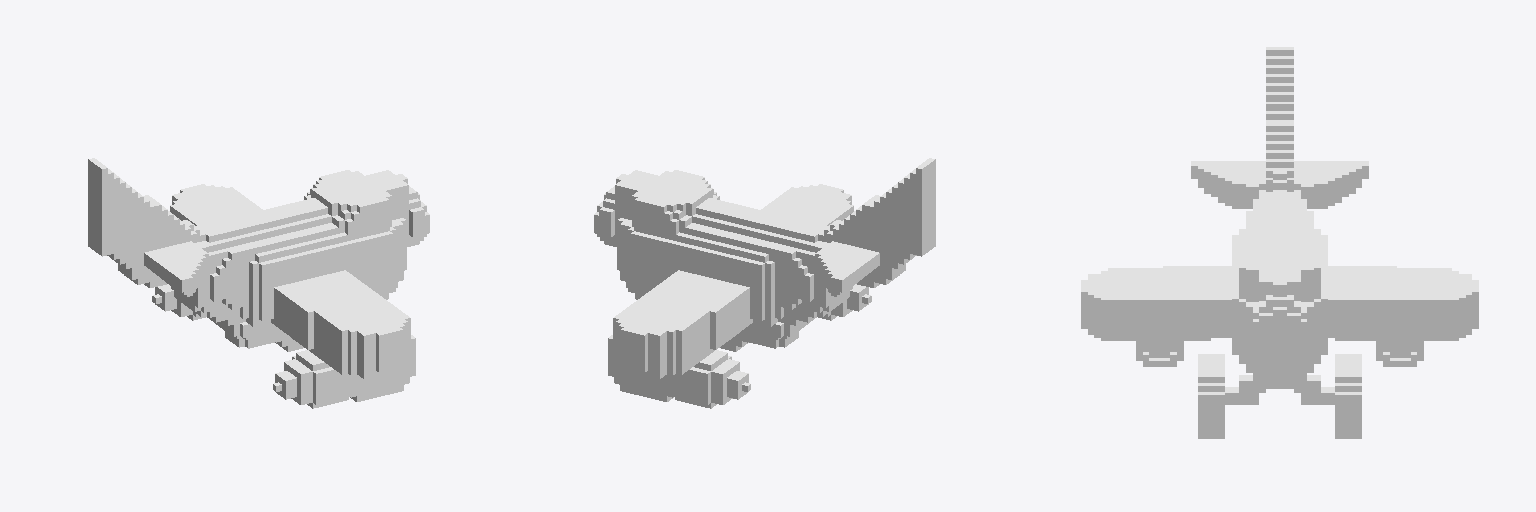
File: PlayerBBVA.obj
The picture shows the model from 3 angles: view 1: azimuth 30°, elevation 25°; view 2: azimuth 150°, elevation 25°; view 3: azimuth 270°, elevation 25°; orthographic projection.
Visible parts, largest first — view 1: object 1; view 2: object 1; view 3: object 1.
Part boxes in pixels (bbox=[...]): object 1: bbox=[88, 158, 429, 408]; object 1: bbox=[594, 158, 935, 408]; object 1: bbox=[1081, 47, 1478, 438].
Bounding box in the file's own units: 5.4 × 4.2 × 5.8.